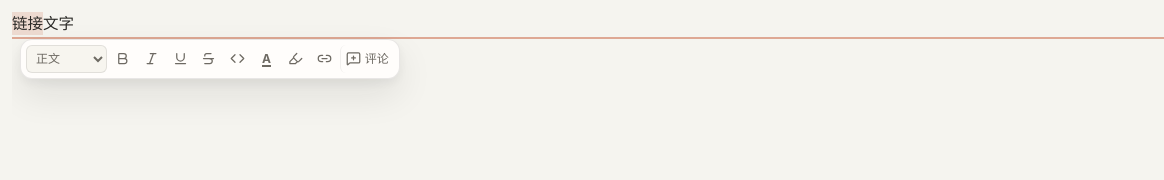
BubbleToolbar › links: 打开、合法 URL 保存、非法 URL 报错并拒绝
Expected: the element named "选区格式" is shown, [26,45,394,73]
Click the button named "编辑链接": (324, 59) [311,45,337,73]
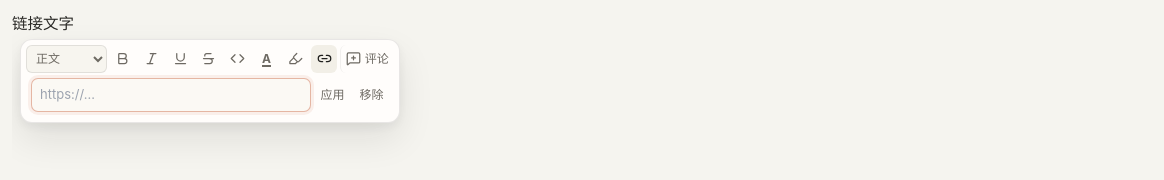
In the field named "链接地址": (171, 95) [31,78,311,112], type "https://example.com"
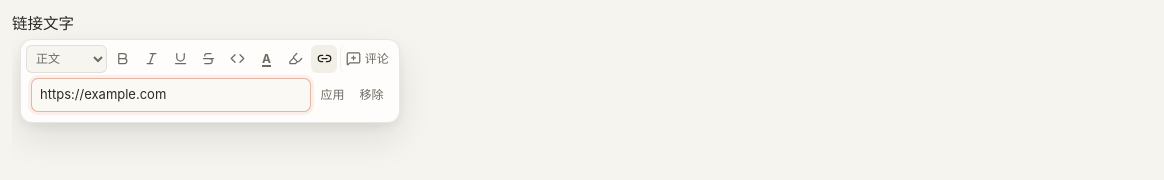
Click the button "应用": (332, 95) [315,81,350,109]
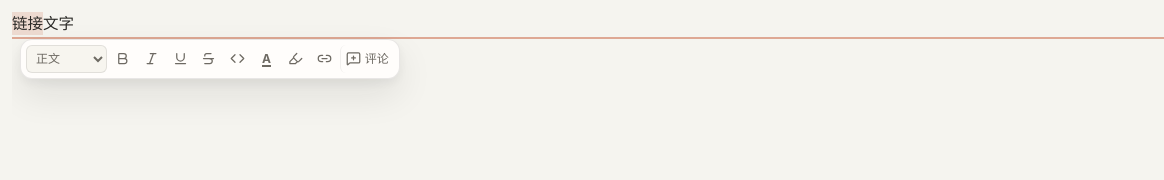
Expected: the field labelled "链接地址" is gone
Click the button named "编辑链接": (324, 59) [311,45,337,73]
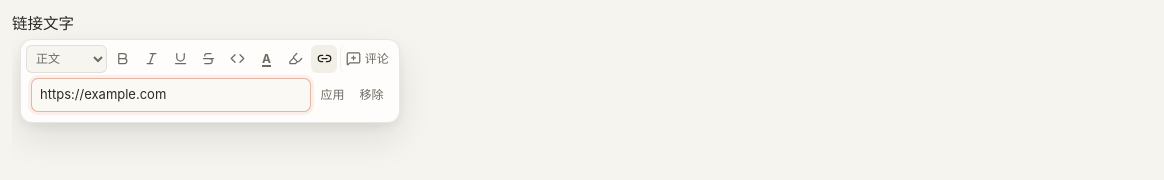
Replace the text in the field named "链接地址" with "javascript:alert(1)": (171, 95) [31,78,311,112]
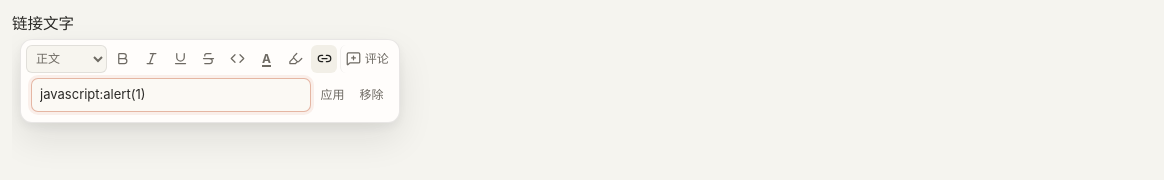
Click the button "应用": (332, 95) [315,81,350,109]
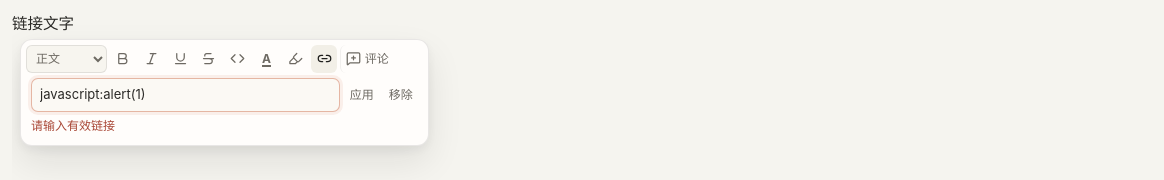
Expected: the message reads "请输入有效链接", [31,118,115,133]
